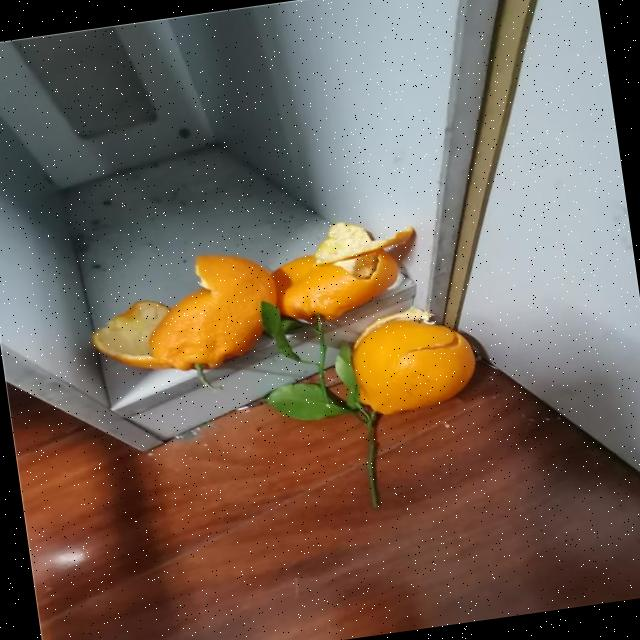orange-peel: (136, 244, 285, 377), (345, 308, 481, 419)
